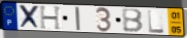3: (95, 6, 113, 34)
B: (121, 8, 145, 34)
H: (38, 6, 63, 31)
I: (73, 7, 82, 32)
L: (147, 9, 166, 35)
X: (18, 4, 41, 30)
